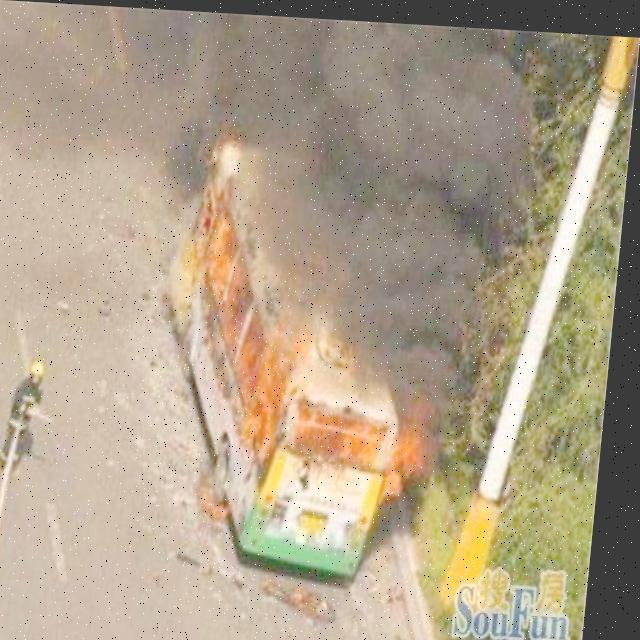Fire: (159, 138, 462, 574)
